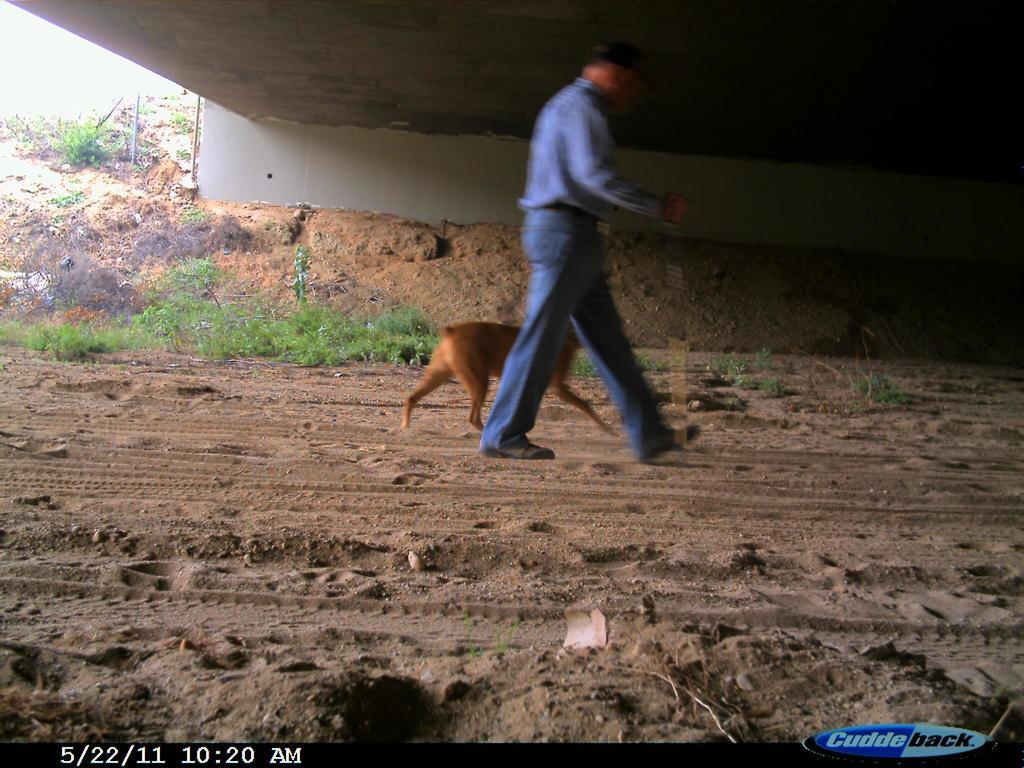dog: (393, 295, 652, 465)
